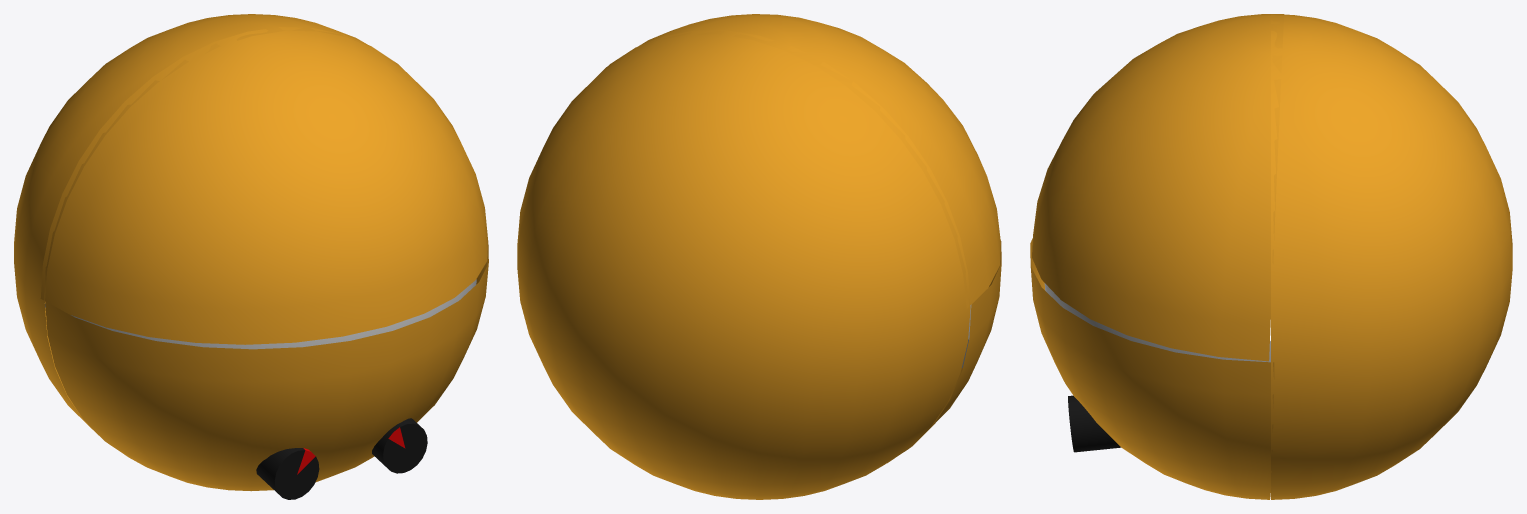
The model's file is pacman_final.fbx.
3 renders of one model, left to right at view 1: azimuth 30°, elevation 25°; view 2: azimuth 150°, elevation 25°; view 3: azimuth 270°, elevation 25°, orthographic.
Parts seen in each view (by area): view 1: pSphere4, pSphere3, pSphere2, pCylinder3, pCylinder2, pSphere1; view 2: pSphere2, pSphere4, pSphere3; view 3: pSphere2, pSphere4, pSphere3, pCylinder2, pSphere1.
Part boxes in pixels (left/top/right/bottom): pSphere4: left=40, top=27, right=488, bottom=344; pSphere3: left=45, top=244, right=488, bottom=491; pSphere2: left=14, top=14, right=406, bottom=435; pCylinder3: left=256, top=448, right=319, bottom=499; pCylinder2: left=372, top=418, right=427, bottom=473; pSphere1: left=45, top=279, right=476, bottom=349; pSphere2: left=517, top=30, right=970, bottom=499; pSphere4: left=599, top=14, right=1000, bottom=308; pSphere3: left=887, top=240, right=1001, bottom=463; pSphere2: left=1271, top=14, right=1512, bottom=499; pSphere4: left=1032, top=14, right=1284, bottom=361; pSphere3: left=1030, top=238, right=1274, bottom=499; pCylinder2: left=1068, top=395, right=1120, bottom=452; pSphere1: left=1044, top=283, right=1270, bottom=362.
Bounding box in the file's own units: 19.84 × 19.83 × 19.68.
